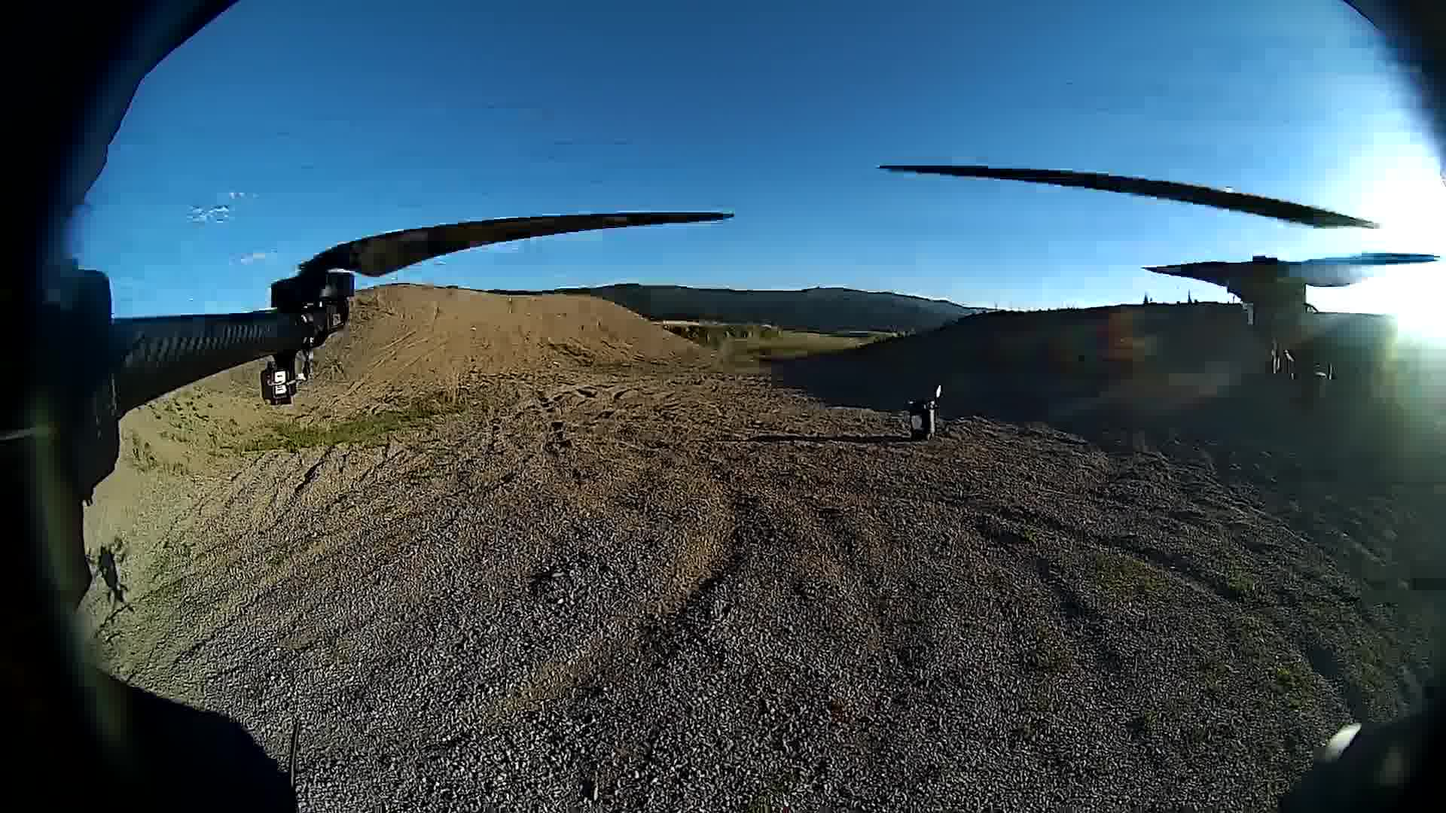Target: (911, 415, 924, 429)
